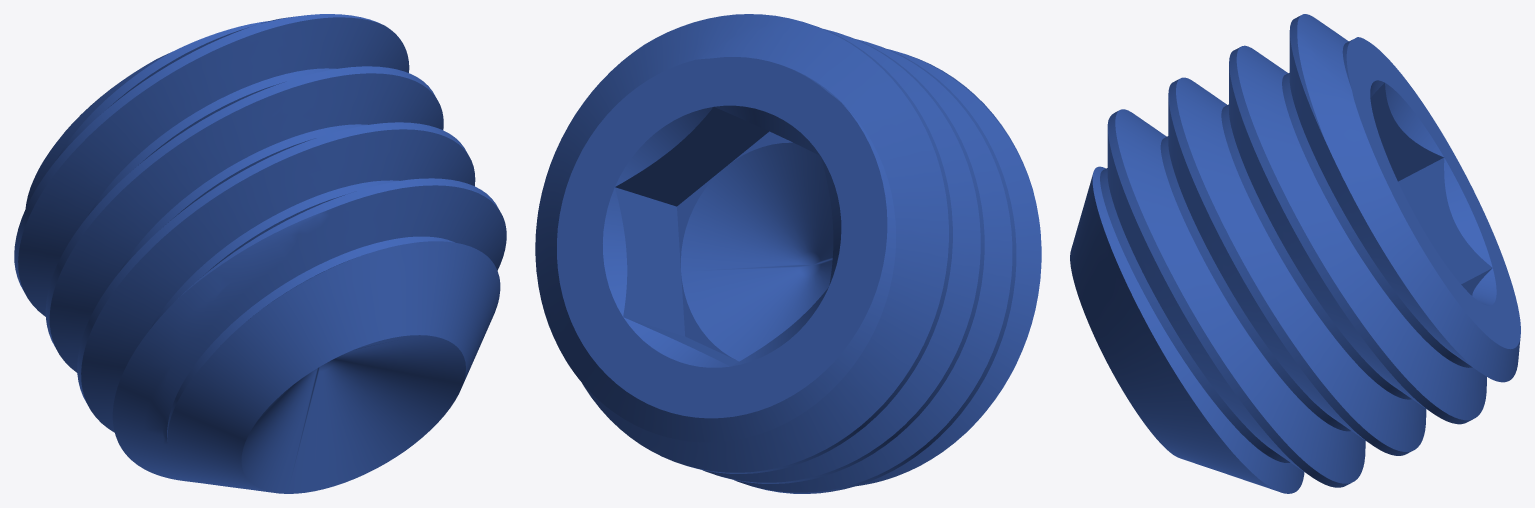
The model's file is Exc_Miter_Gear_8mm_REX_Bore_2315_4008_0030_1.obj.
3 views of the same model, side by side, from view 1: azimuth 30°, elevation 25°; view 2: azimuth 150°, elevation 25°; view 3: azimuth 270°, elevation 25° (orthographic). The views are drawn at different scales.
Visible parts, largest first — view 1: mesh28548; view 2: mesh28548; view 3: mesh28548.
Boxes of the visible parts, x1,y1,x2,y2 form: mesh28548: (14,14,506,493); mesh28548: (535,14,1041,493); mesh28548: (1070,14,1520,493).
Size of the model in its own units: 0.005 by 0.00552 by 0.00515.
